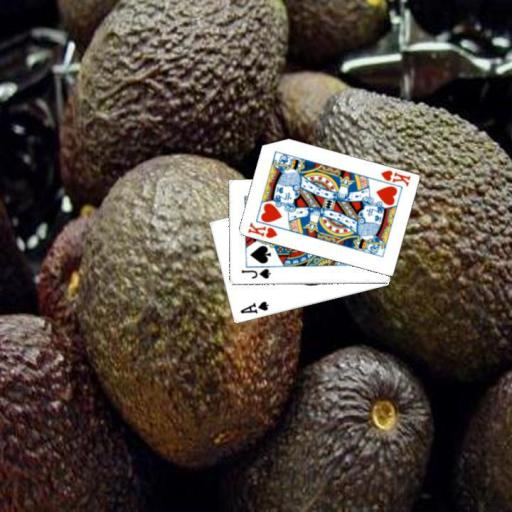AS: (237, 299, 269, 316)
JS: (238, 266, 272, 281)
KH: (378, 167, 412, 189), (245, 220, 279, 240)
